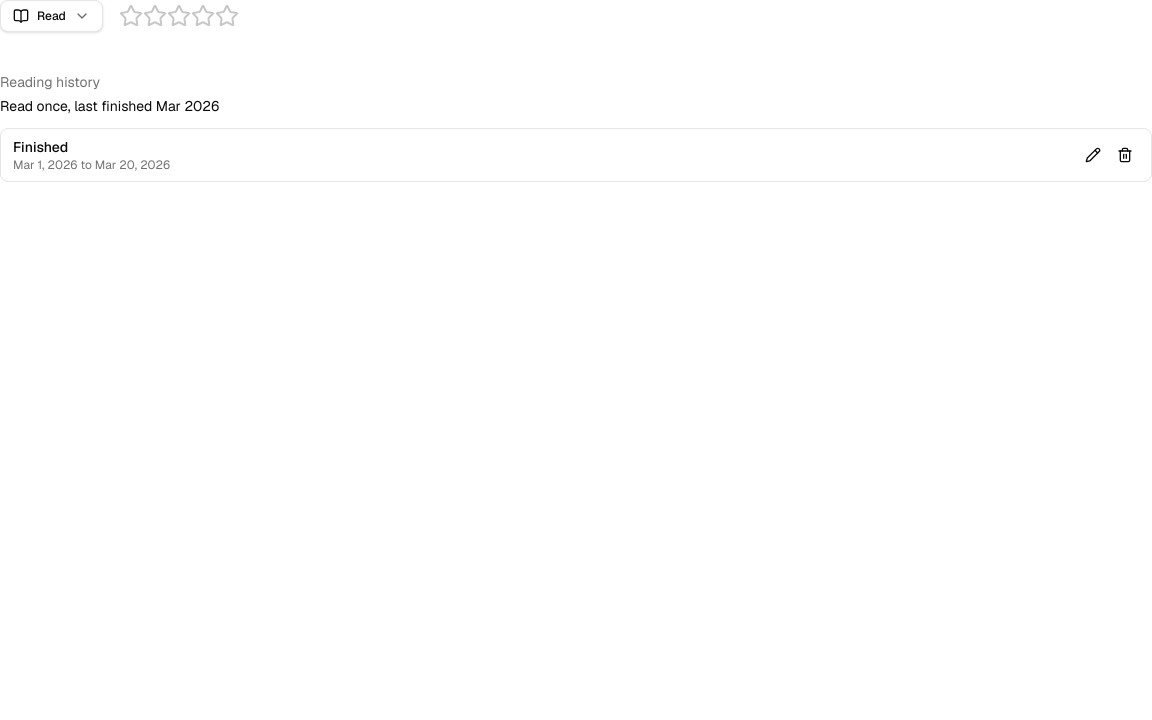
Test: ReadingHistory › clears a start date
Click the button named "Edit dates" at (1093, 155), box [1079,141,1107,169]
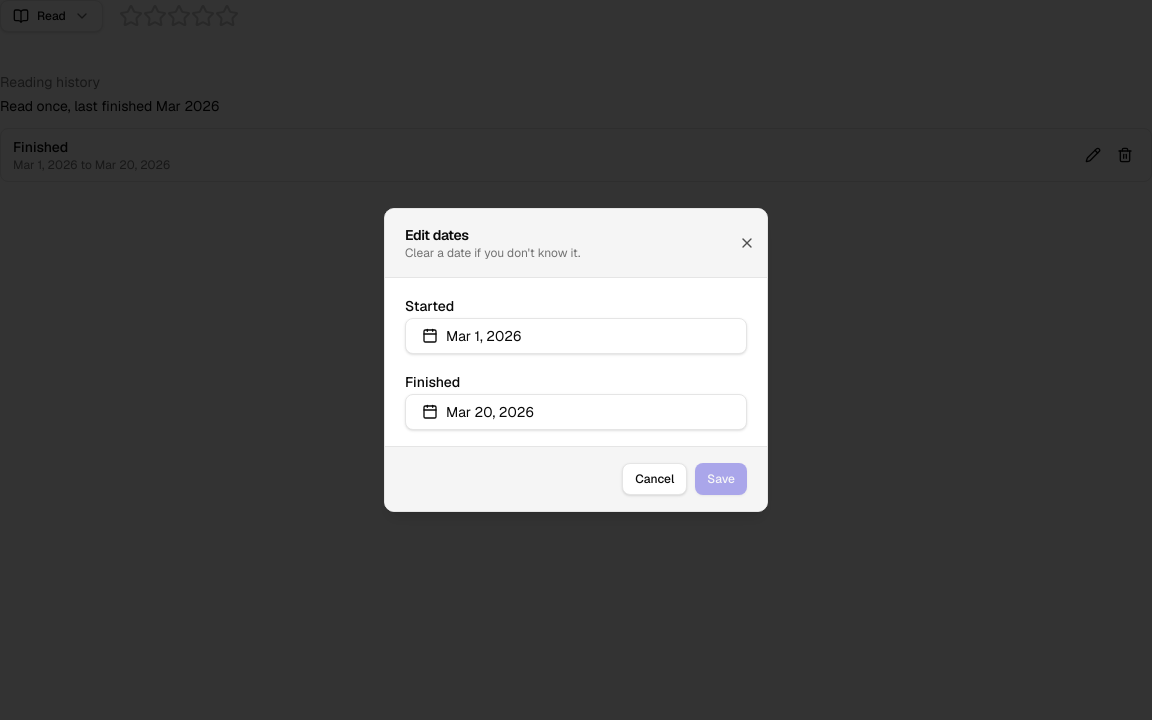
Now the button named "Started" reads "Mar 1, 2026"
Click the button named "Started" at (484, 336), box [405,318,747,354]
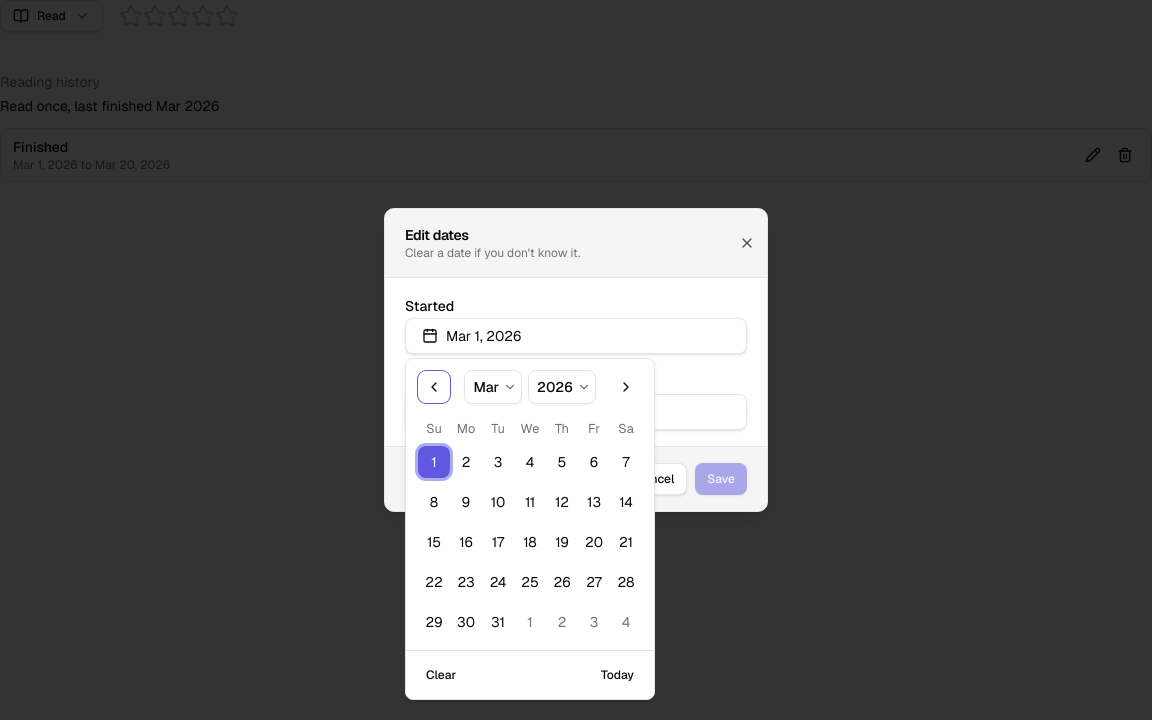
Click the button "Clear" at (441, 675), box [414,659,468,691]
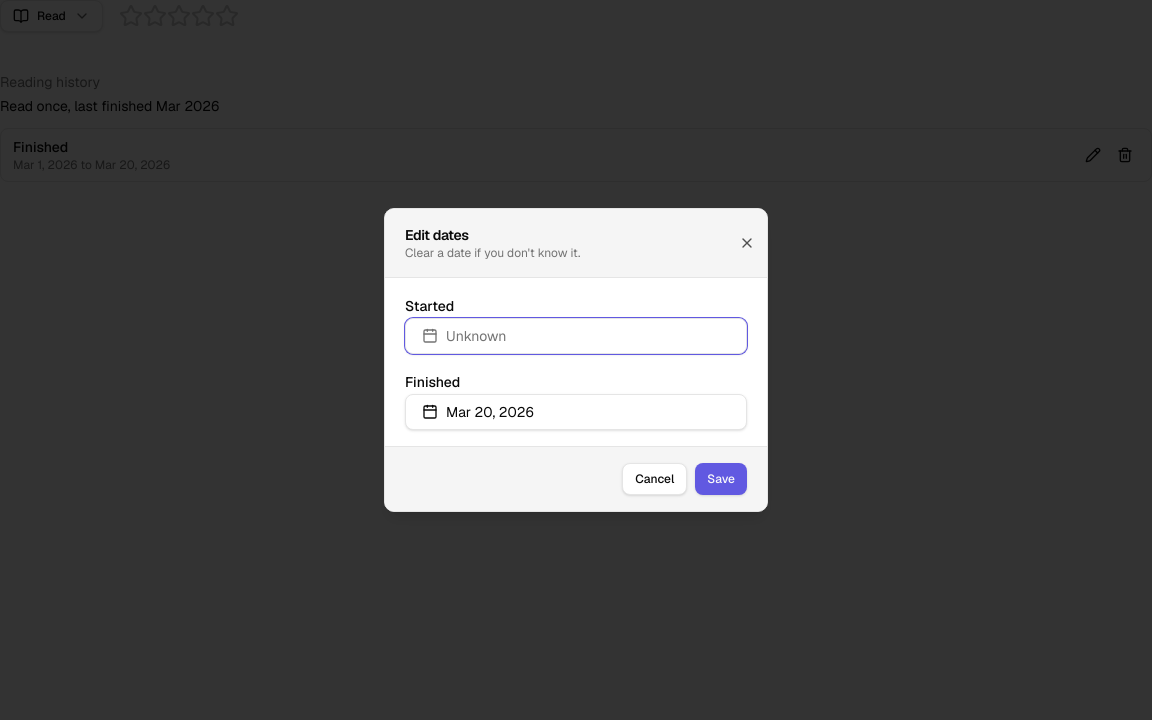
Now the button named "Started" reads "Unknown", box [405,318,747,354]
Click the button "Save" at (721, 479), box [695,463,747,495]
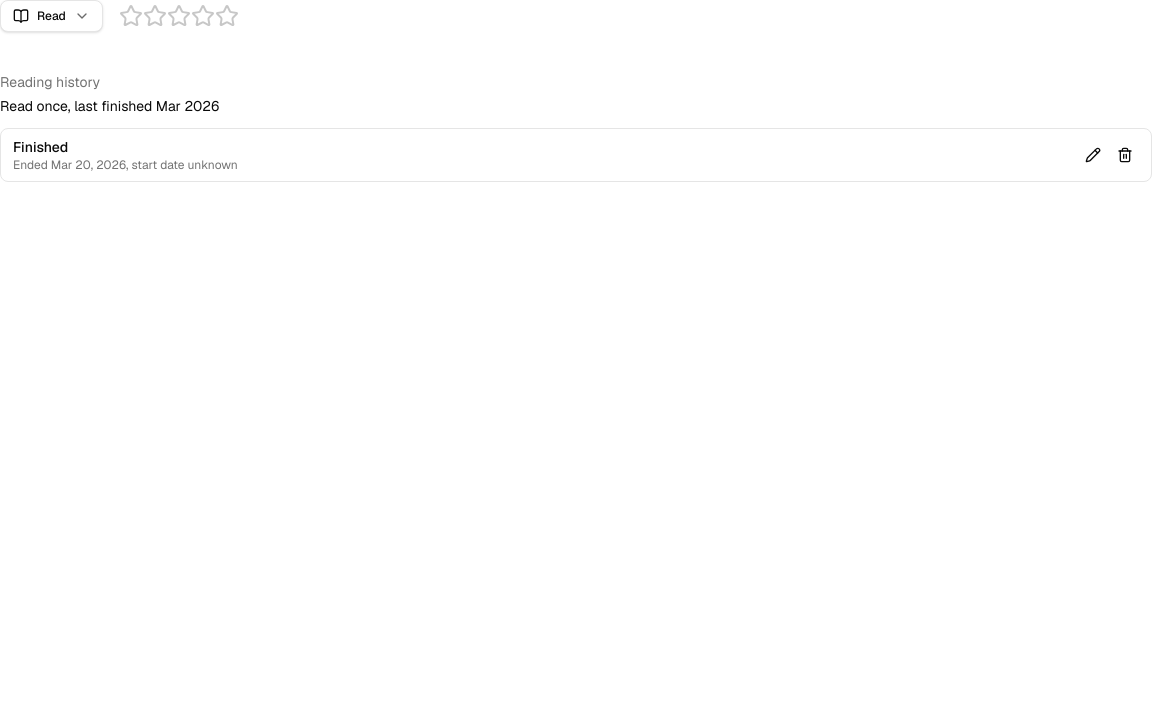
Now the text "Ended Mar 20, 2026, start date unknown" is shown, box [13,157,238,173]
